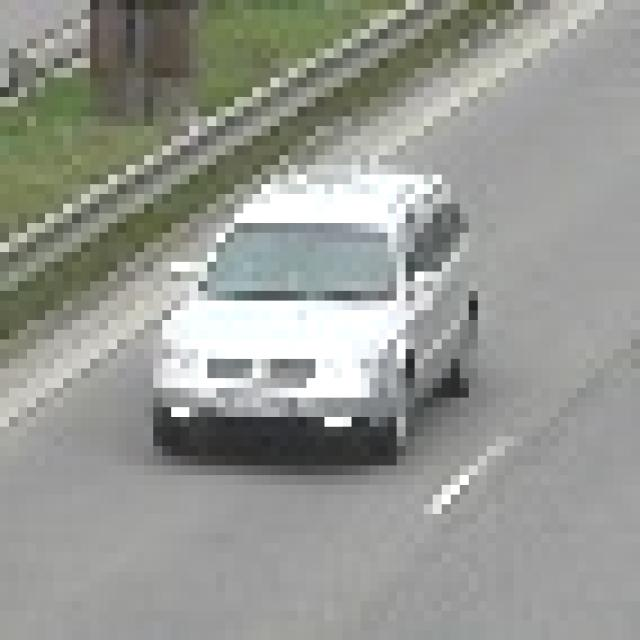SUV: (166, 167, 465, 451)
